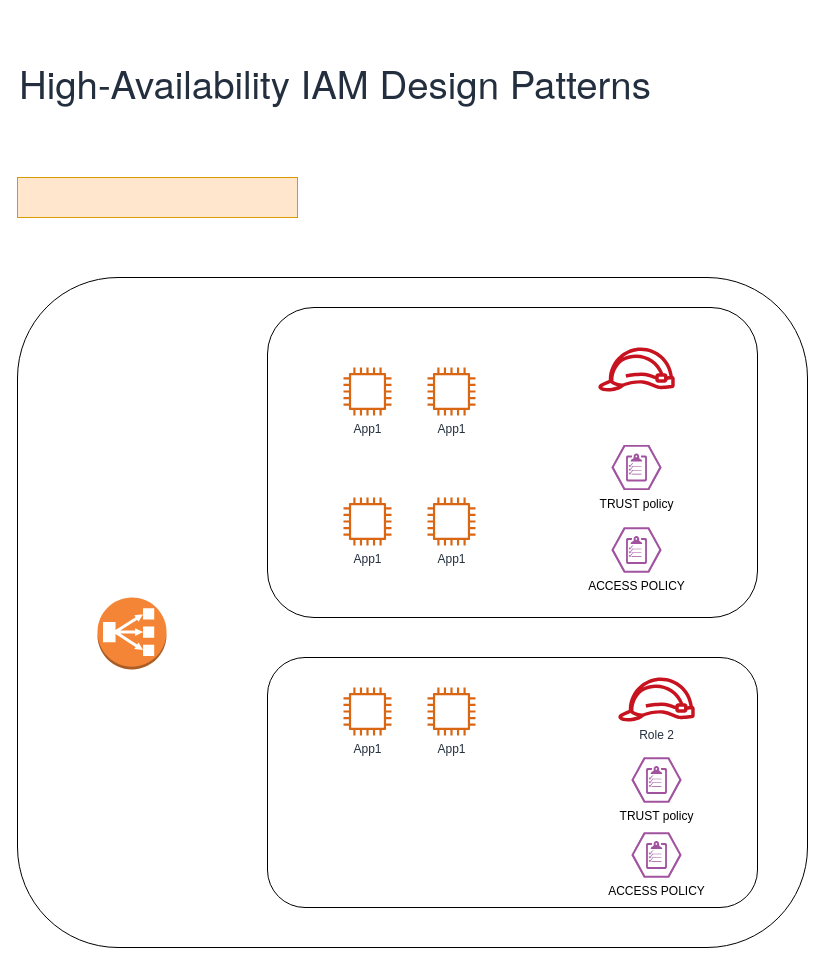
Some shapes in this 835 by 965 pixel diagram are drawn without their labels. Here are the shapes that lost their labels. From the top down, the box of each, then its label:
(16, 176, 298, 218): Separate role for the validation
(597, 347, 675, 391): Role 1
(266, 656, 758, 908): us-east-1
